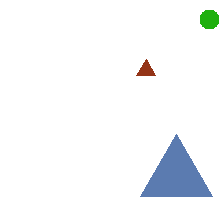circle: (200, 10, 218, 28)
triangle: (140, 134, 212, 196), (136, 59, 155, 75)
